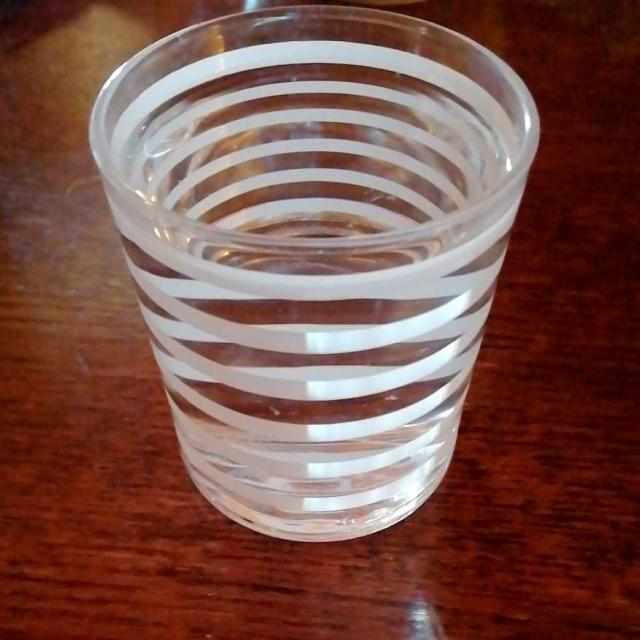water: (138, 103, 487, 235)
